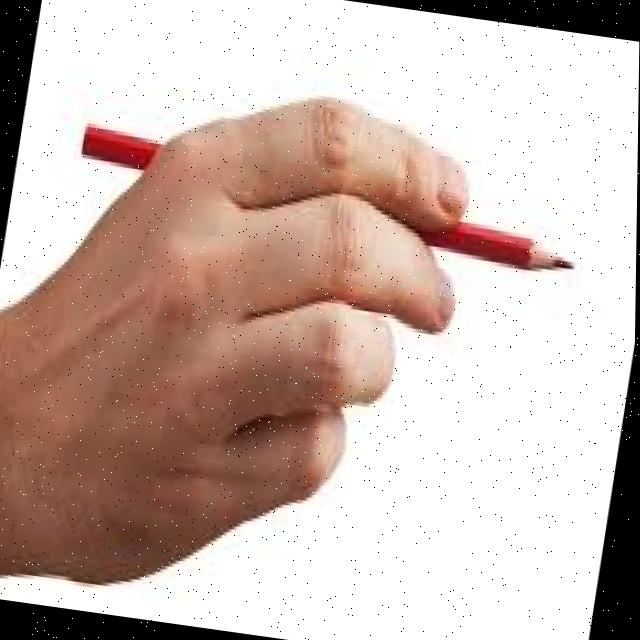pencil: (438, 219, 581, 280), (72, 122, 165, 174)
